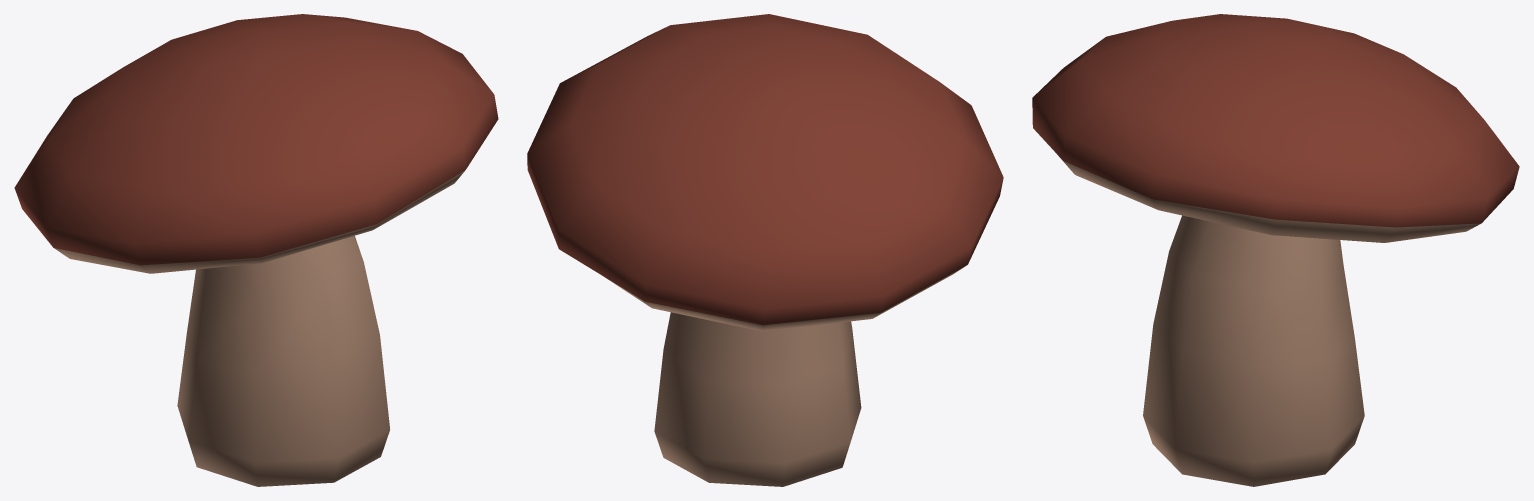
The model's file is Mushroom_01_Big.fbx.
The picture shows the model from 3 angles, left to right: view 1: azimuth 30°, elevation 25°; view 2: azimuth 150°, elevation 25°; view 3: azimuth 270°, elevation 25°; orthographic projection. The views are drawn at different scales.
Parts seen in each view (by area): view 1: Mushroom_01_Big; view 2: Mushroom_01_Big; view 3: Mushroom_01_Big.
Part boxes in pixels (left/top/right/bottom): Mushroom_01_Big: left=14, top=14, right=498, bottom=486; Mushroom_01_Big: left=527, top=14, right=1003, bottom=486; Mushroom_01_Big: left=1032, top=14, right=1519, bottom=486.
Size of the model in its own units: 0.1393 by 0.1297 by 0.1386.
